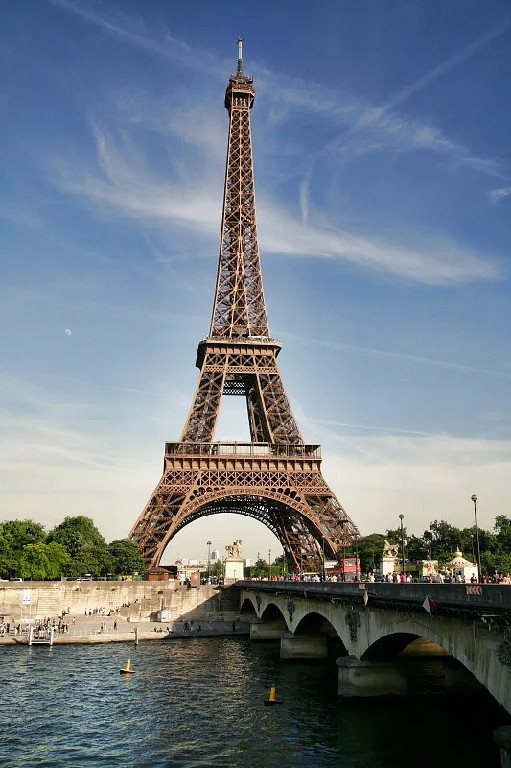Eiffel: (126, 40, 362, 573)
